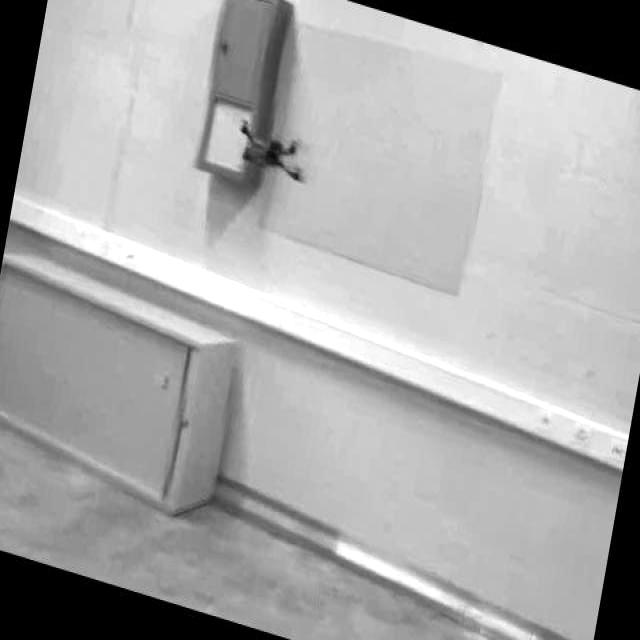drone: (228, 109, 322, 194)
